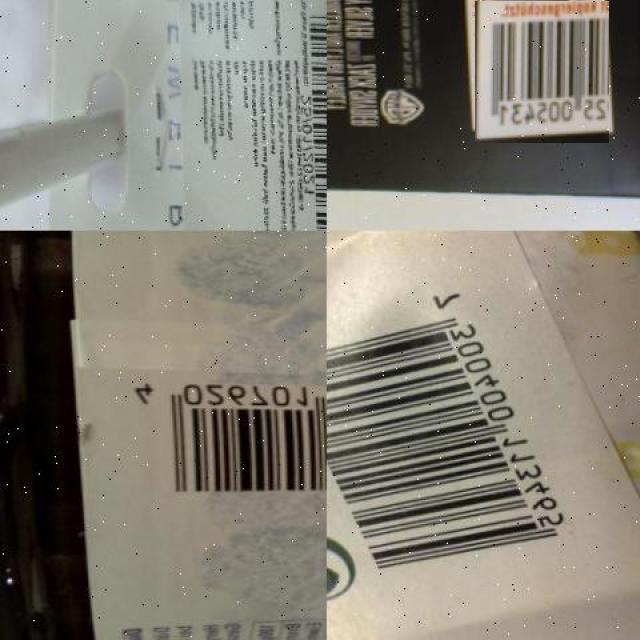Barcode: (327, 278, 592, 602), (121, 382, 327, 506), (471, 0, 614, 139), (304, 2, 327, 230)
